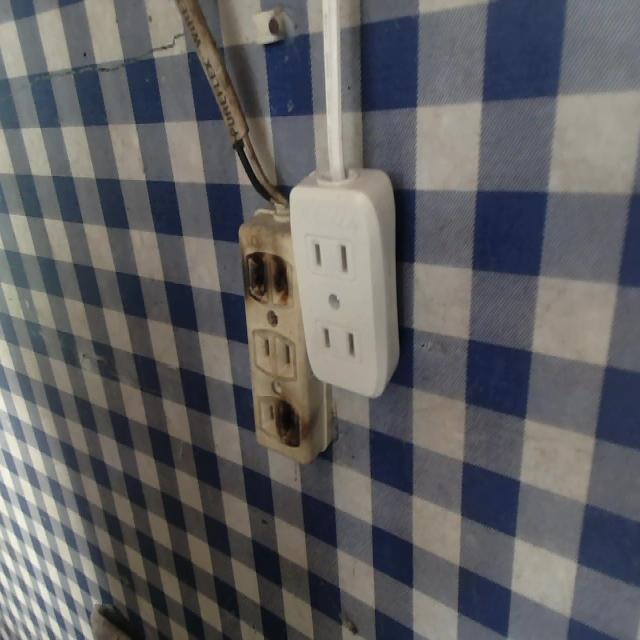-: (240, 247, 304, 312), (268, 392, 304, 447)
